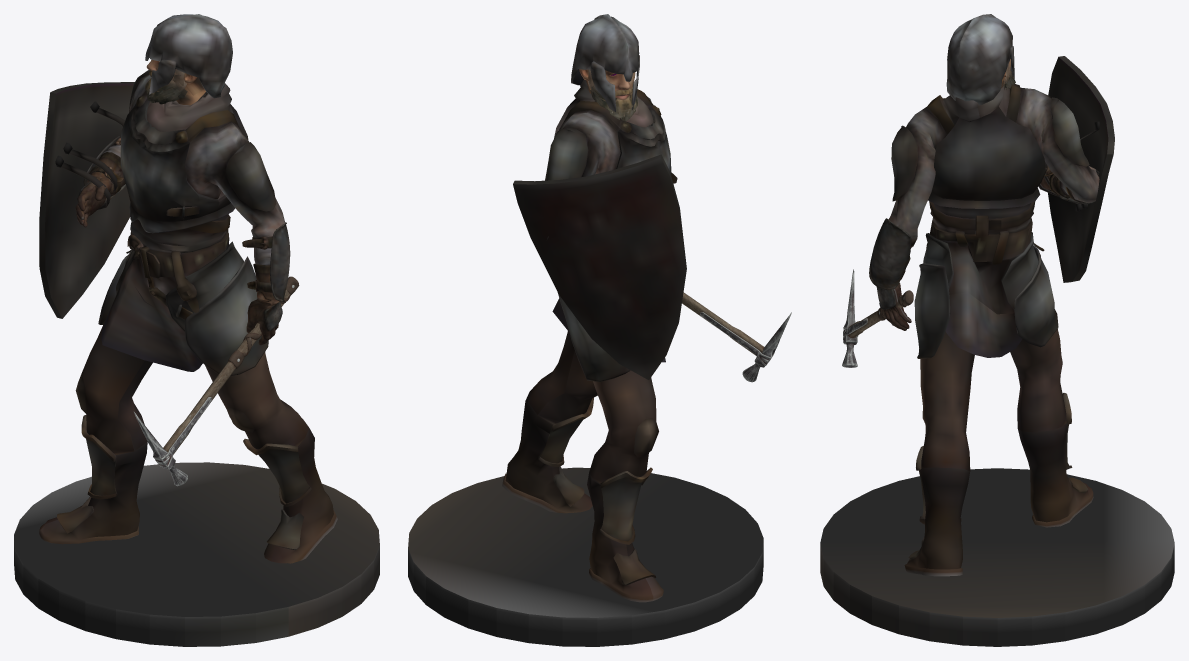
The picture shows the model from 3 angles, left to right: view 1: azimuth 30°, elevation 25°; view 2: azimuth 150°, elevation 25°; view 3: azimuth 270°, elevation 25°; orthographic projection. The views are drawn at different scales.
Parts seen in each view (by area): view 1: headgroup_gatekeeper_medhelm_lod1.smd; view 2: headgroup_gatekeeper_medhelm_lod1.smd; view 3: headgroup_gatekeeper_medhelm_lod1.smd.
Boxes of the visible parts, box(x1,y1,x2,y2) form: headgroup_gatekeeper_medhelm_lod1.smd: box(14, 14, 379, 646); headgroup_gatekeeper_medhelm_lod1.smd: box(408, 14, 791, 646); headgroup_gatekeeper_medhelm_lod1.smd: box(820, 14, 1174, 646).
Size of the model in its own units: 1 by 1.71 by 1.
1 material, 1 textured.
